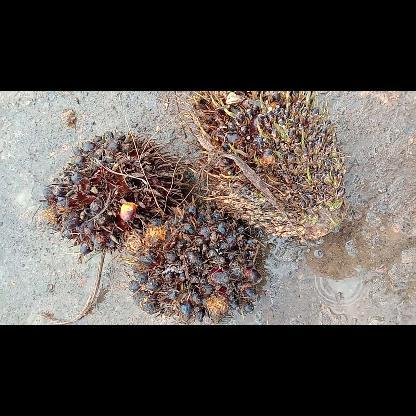TBS abnormal: (177, 90, 347, 240), (44, 131, 188, 254), (120, 202, 262, 322)
